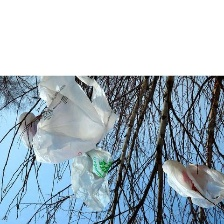plastic_bag: (30, 74, 121, 164), (160, 157, 224, 210), (68, 145, 114, 212), (12, 108, 50, 156)
